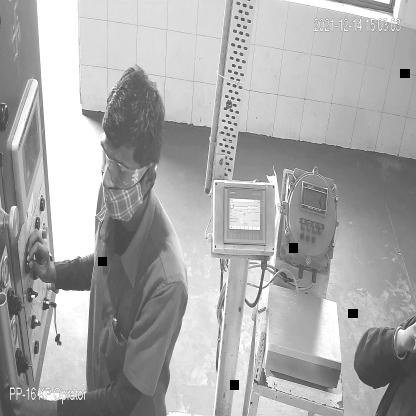goggles: (93, 146, 146, 188)
